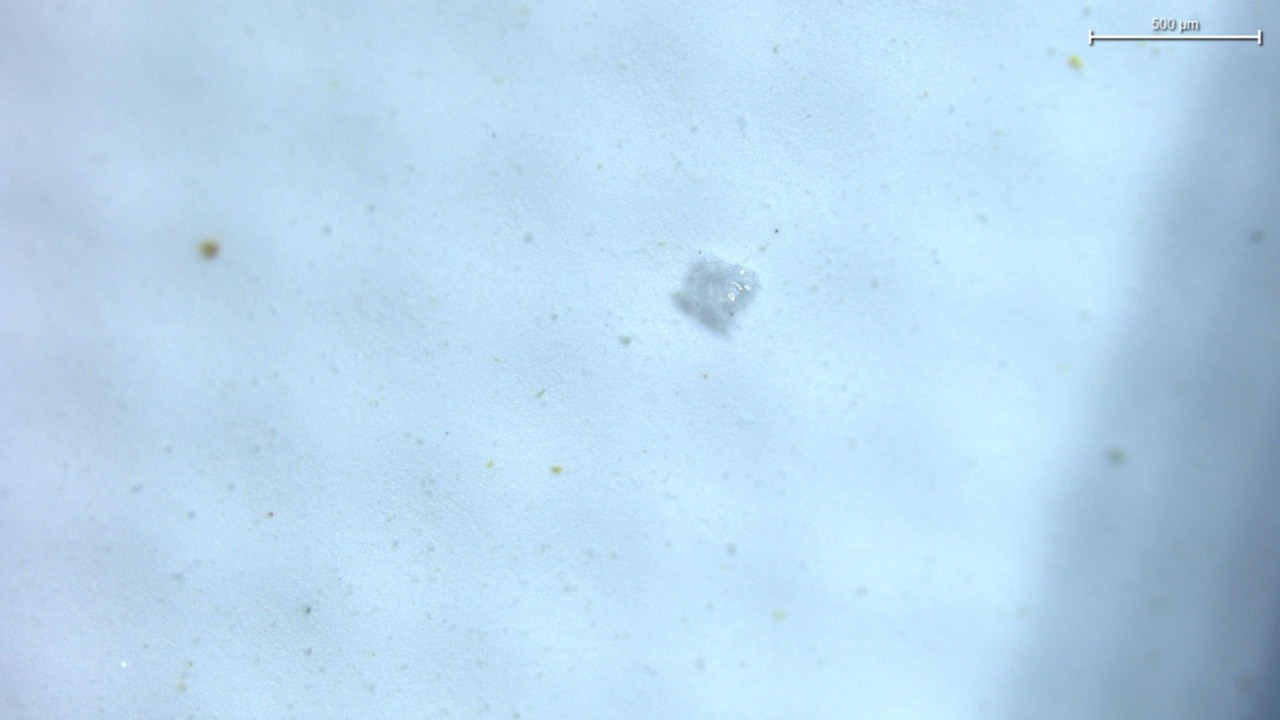microplastic_fragment: (672, 257, 759, 334)
